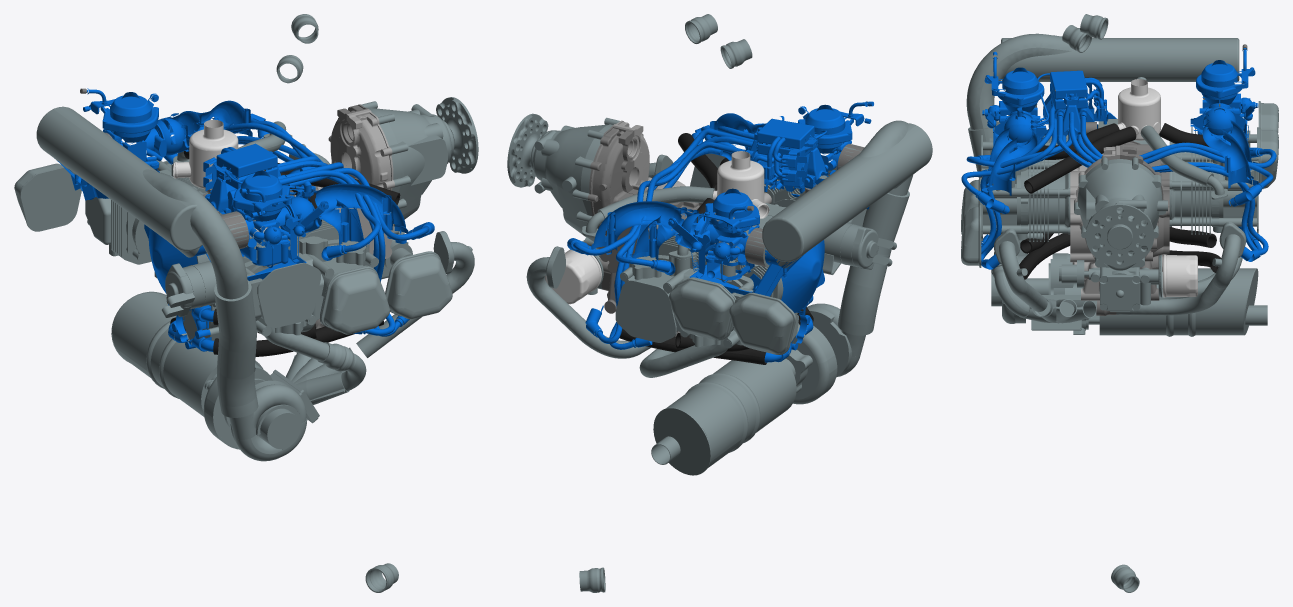
File: AeroDTwin_Rotax_20_Compounds.glb
3 renders of one model, left to right at view 1: azimuth 30°, elevation 25°; view 2: azimuth 150°, elevation 25°; view 3: azimuth 270°, elevation 25°, orthographic. The views are drawn at different scales.
Visible parts, largest first — view 1: Engine_Compound_01; view 2: Engine_Compound_01; view 3: Engine_Compound_01.
Part boxes in pixels (x1=…): Engine_Compound_01: x1=14, y1=14, x2=478, y2=592; Engine_Compound_01: x1=507, y1=14, x2=932, y2=592; Engine_Compound_01: x1=961, y1=14, x2=1278, y2=592.
Bounding box in the file's own units: 0.6691 × 1.07 × 0.5757.
